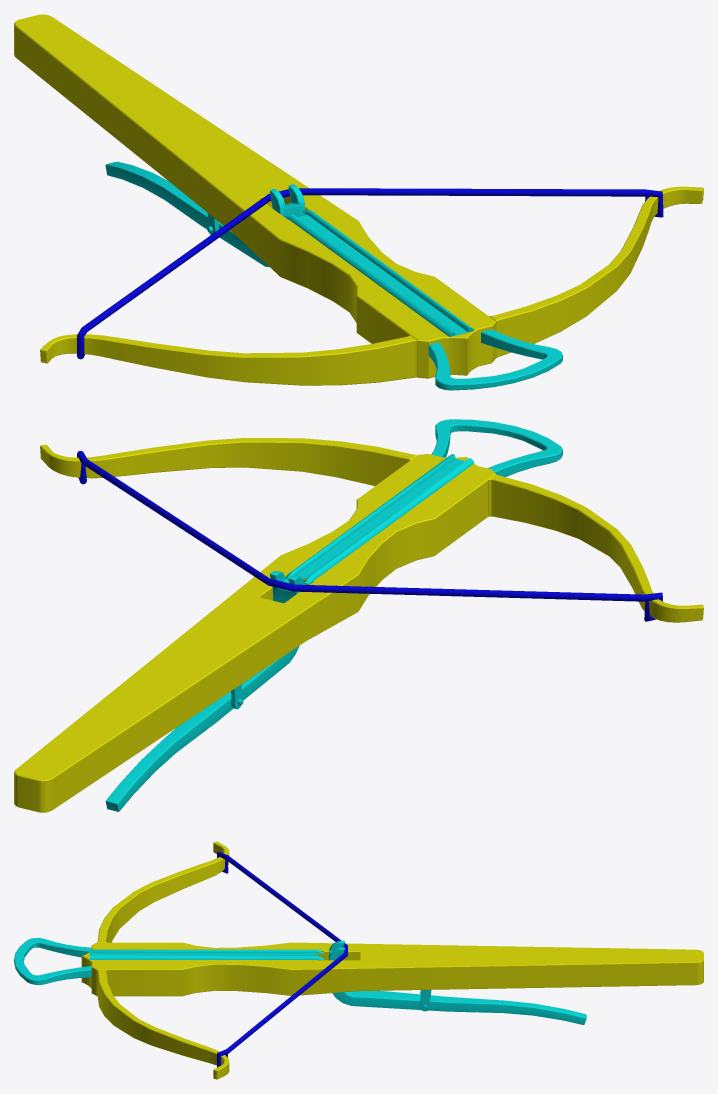
Rendered from Crossbow.fbx.
3 renders of one model, top to bottom at view 1: azimuth 30°, elevation 25°; view 2: azimuth 150°, elevation 25°; view 3: azimuth 270°, elevation 25°, orthographic. The views are drawn at different scales.
Visible parts, largest first — view 1: Crossbow; view 2: Crossbow; view 3: Crossbow.
Boxes of the visible parts, bbox=[...] form: Crossbow: bbox=[14, 14, 703, 390]; Crossbow: bbox=[14, 419, 703, 812]; Crossbow: bbox=[14, 841, 703, 1079].
Bounding box in the file's own units: 66.66 × 10.65 × 84.72.
